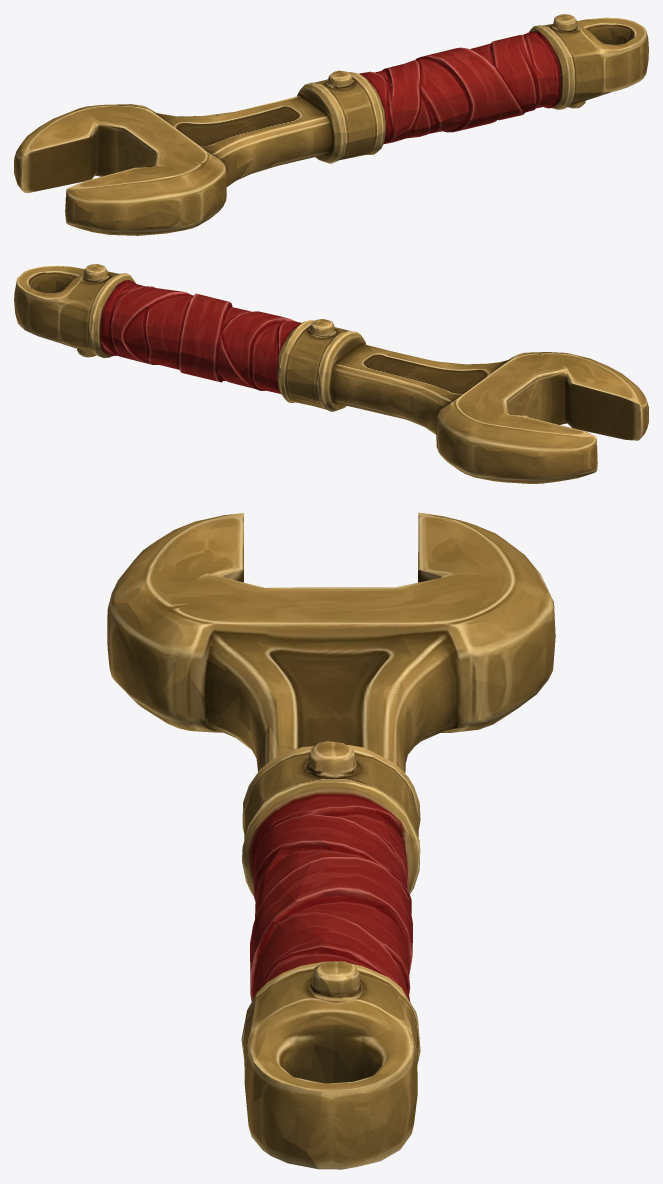
Rendered from tinker-wrench.hq.glb.
3 renders of one model, top to bottom at view 1: azimuth 30°, elevation 25°; view 2: azimuth 150°, elevation 25°; view 3: azimuth 270°, elevation 25°, orthographic. The views are drawn at different scales.
Parts seen in each view (by area): view 1: output_unwrapped; view 2: output_unwrapped; view 3: output_unwrapped.
Boxes of the visible parts, x1,y1,x2,y2 form: output_unwrapped: (14,14,648,235); output_unwrapped: (14,264,648,483); output_unwrapped: (107,512,555,1169).
Size of the model in its own units: 1.9 by 0.2711 by 0.6126.
Materials: 1 (1 with a texture image).
